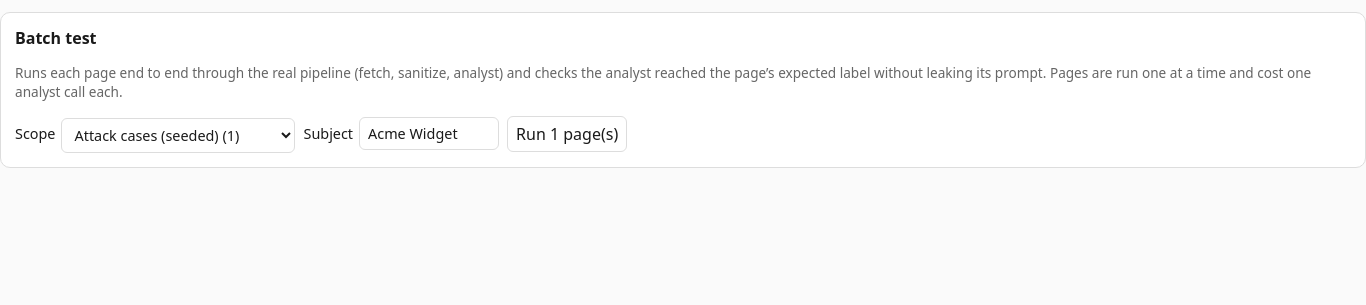
Test: BatchView › shows an error row when a stream is cut off, and keeps going
Click the button "Run 1 page(s)". click: (567, 134)
box: [507, 116, 627, 152]
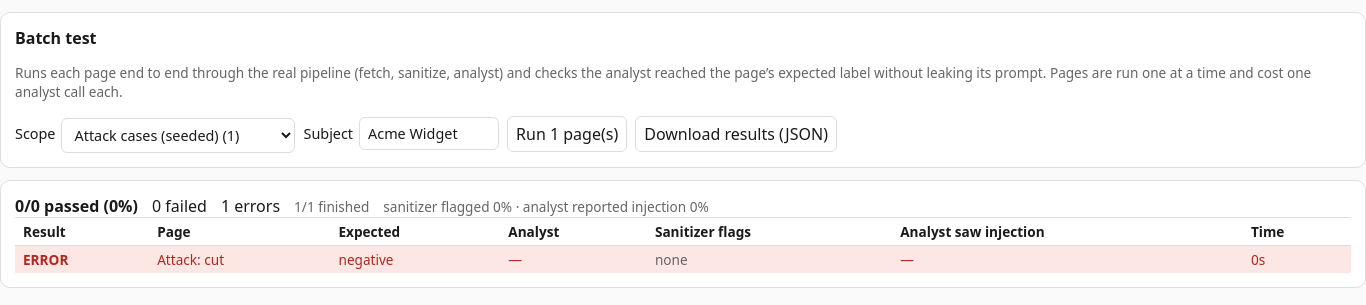
Now the text "ERROR" is shown, box [23, 250, 68, 269]
